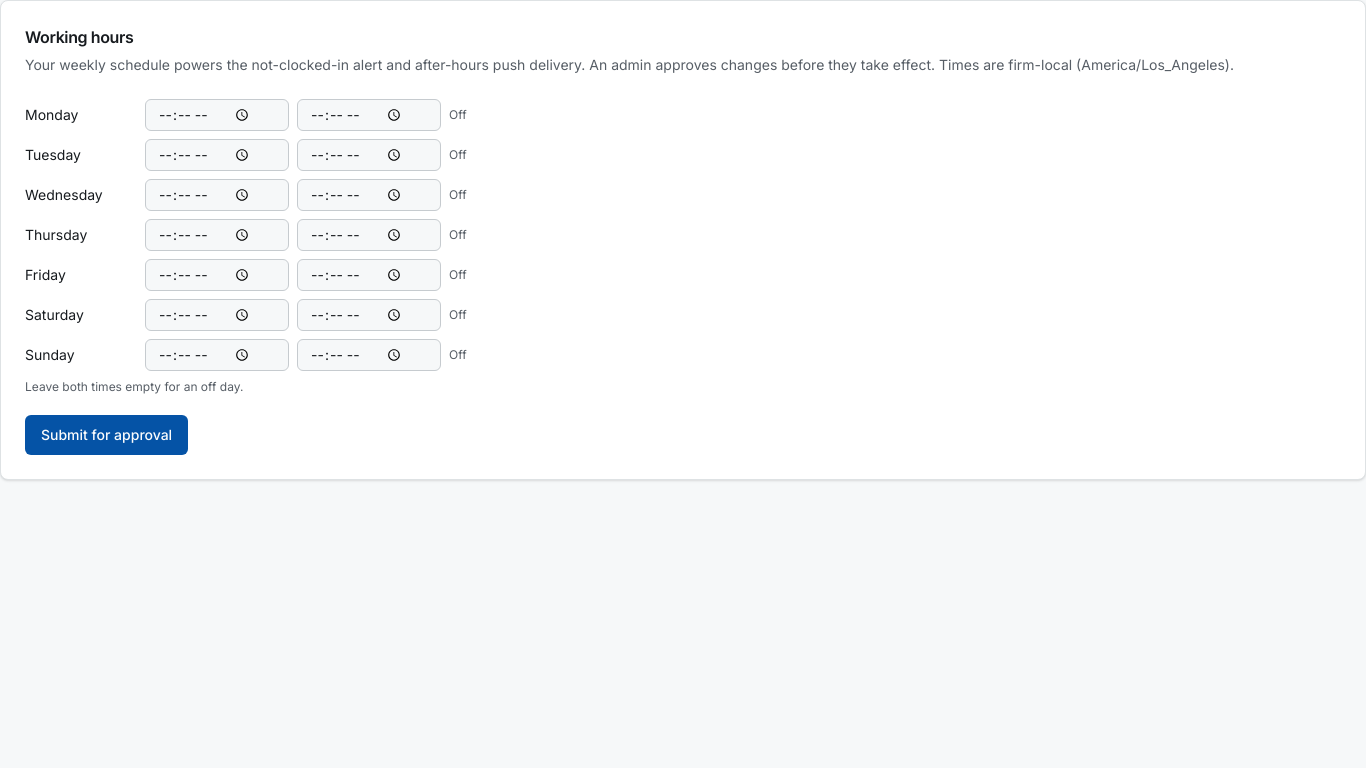
Test: WorkingHoursSettings › validates: half-filled days, end-before-start, and empty weeks never submit
The width and height of the screenshot is (1366, 768).
// Empty week.
Click the button with test id "working-hours-submit": [107, 435] box [25, 415, 188, 455]
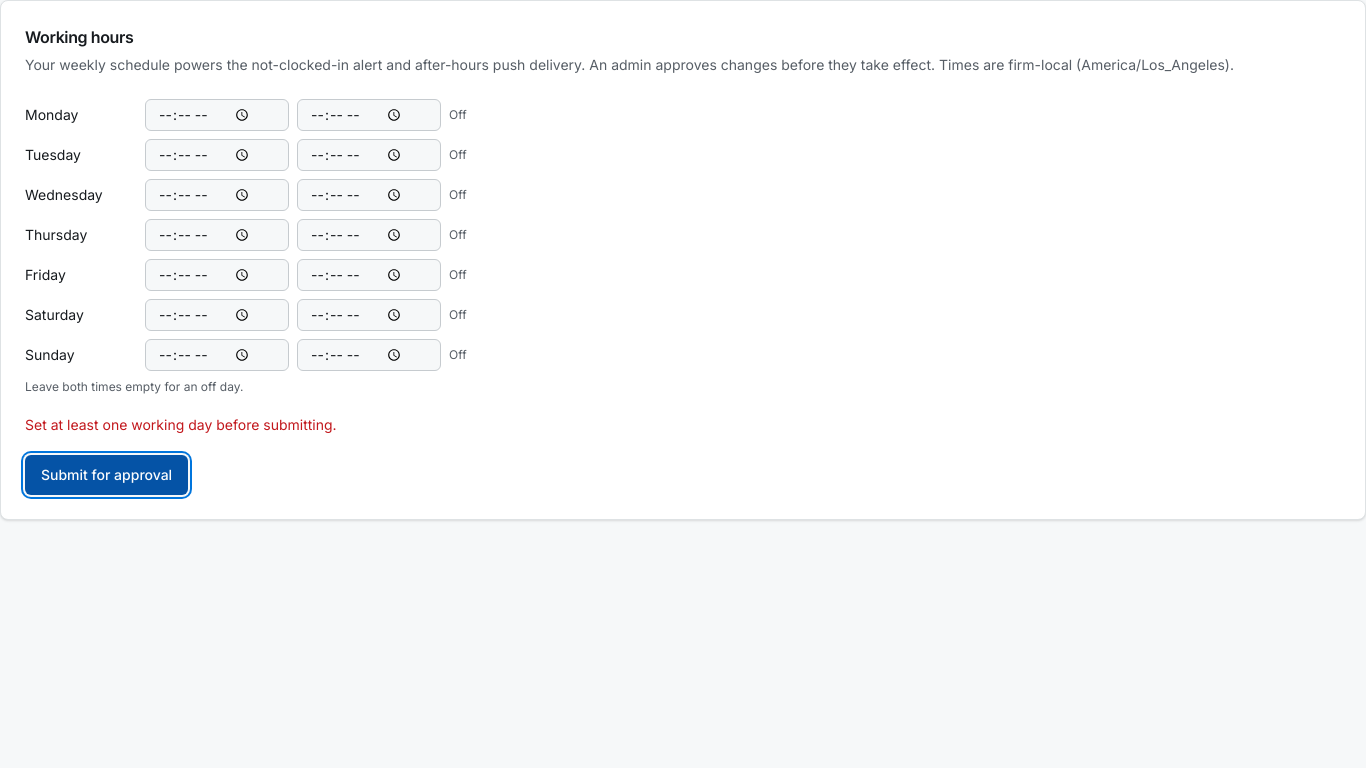
expect the message shows "at least one working day": met, box [25, 416, 337, 433]
// Half-filled day.
In the time field named "Wednesday start": [217, 195] box [145, 179, 289, 211], type "09:00"
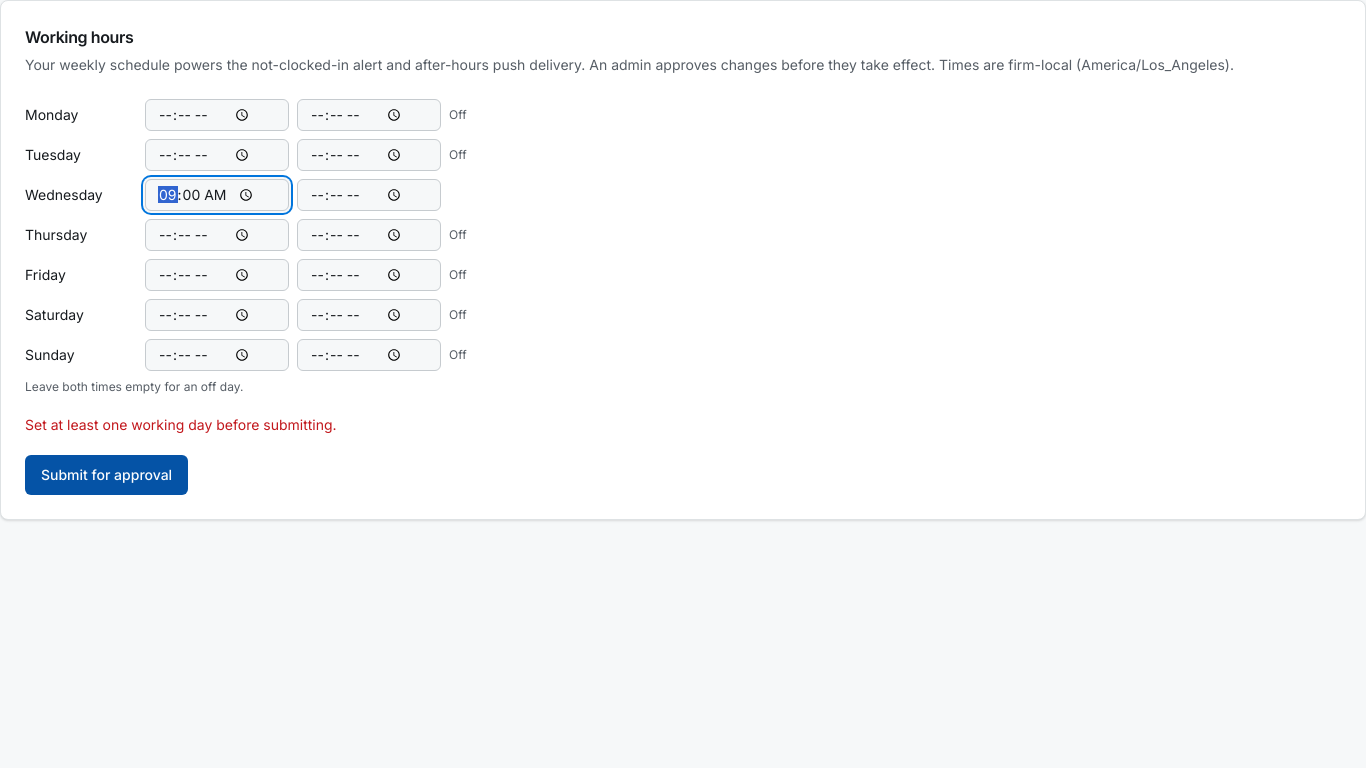
Click the button with test id "working-hours-submit": [107, 475] box [25, 455, 188, 495]
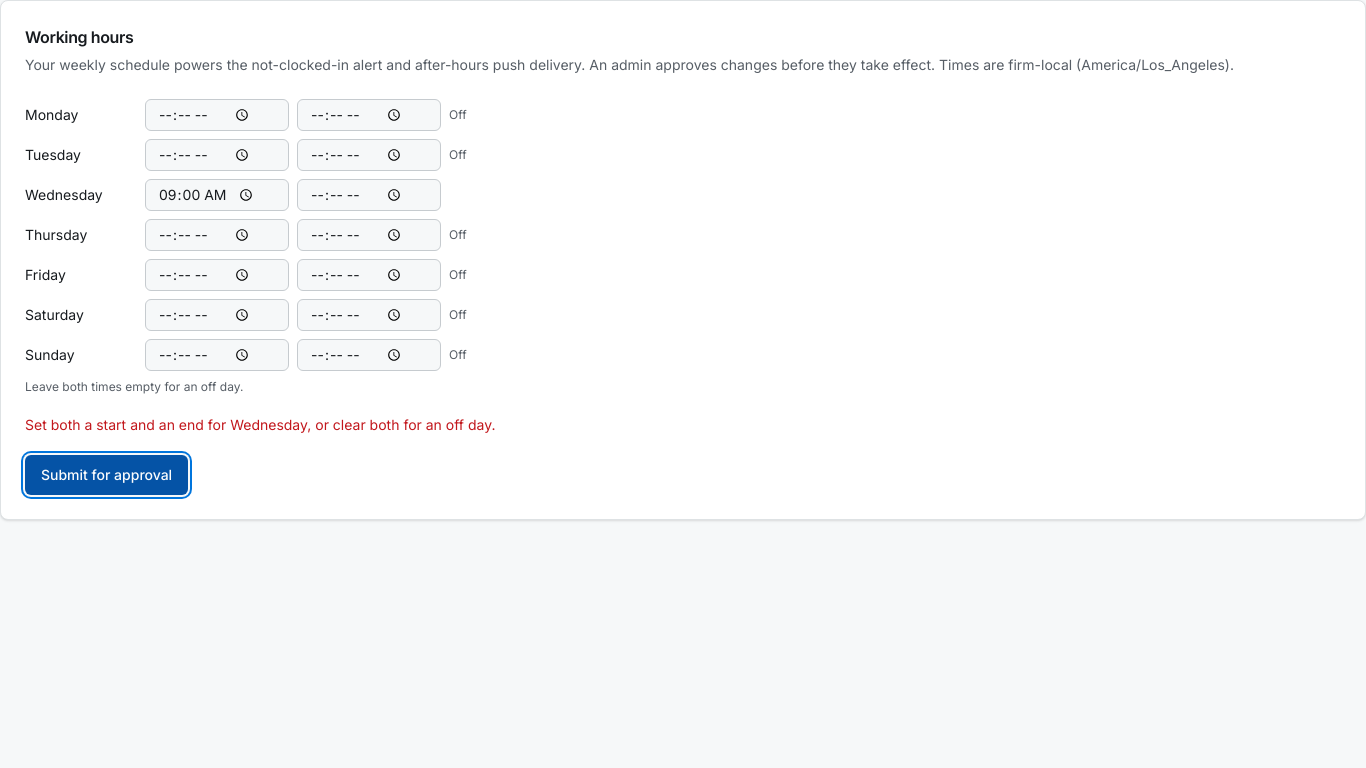
expect the message shows "both a start and an end": met, box [25, 416, 496, 433]
// End before start.
In the time field named "Wednesday end": [369, 195] box [297, 179, 441, 211], type "08:00"
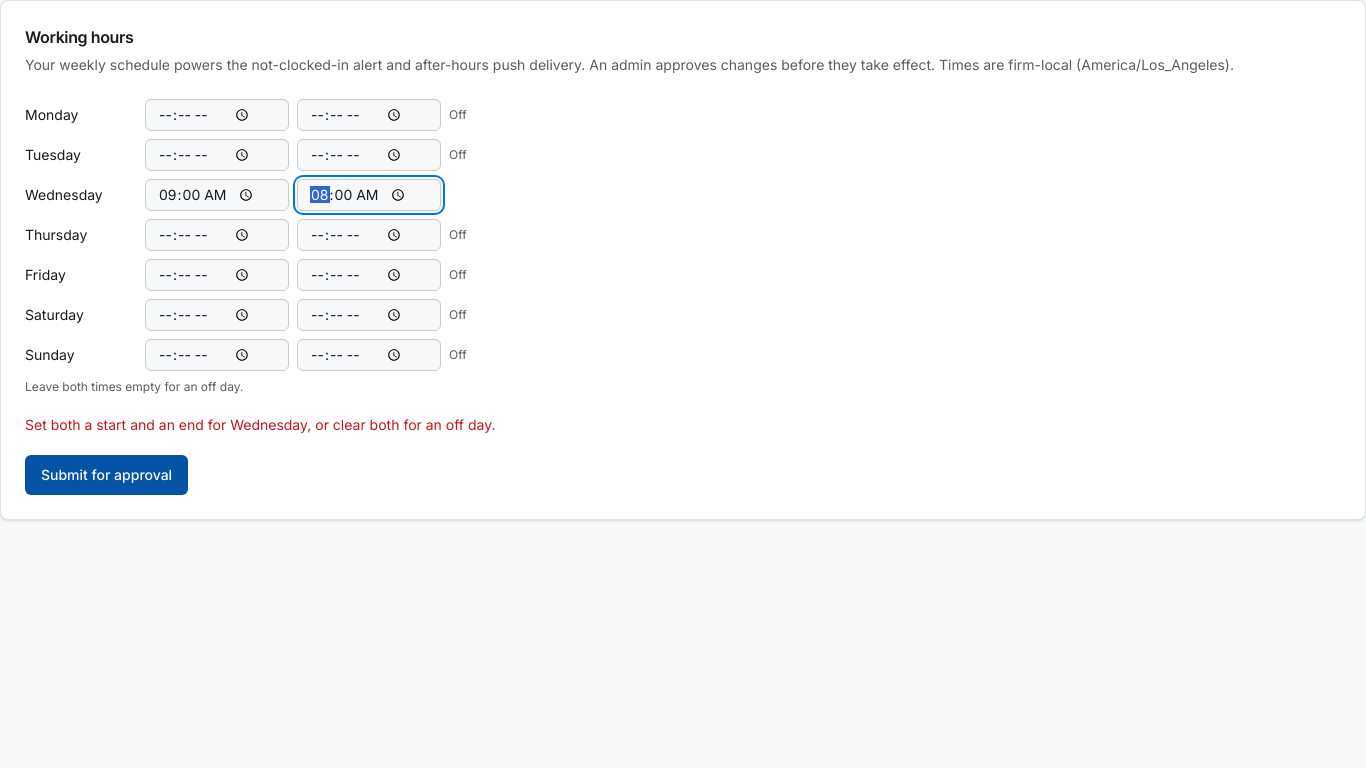
Click the button with test id "working-hours-submit": [107, 475] box [25, 455, 188, 495]
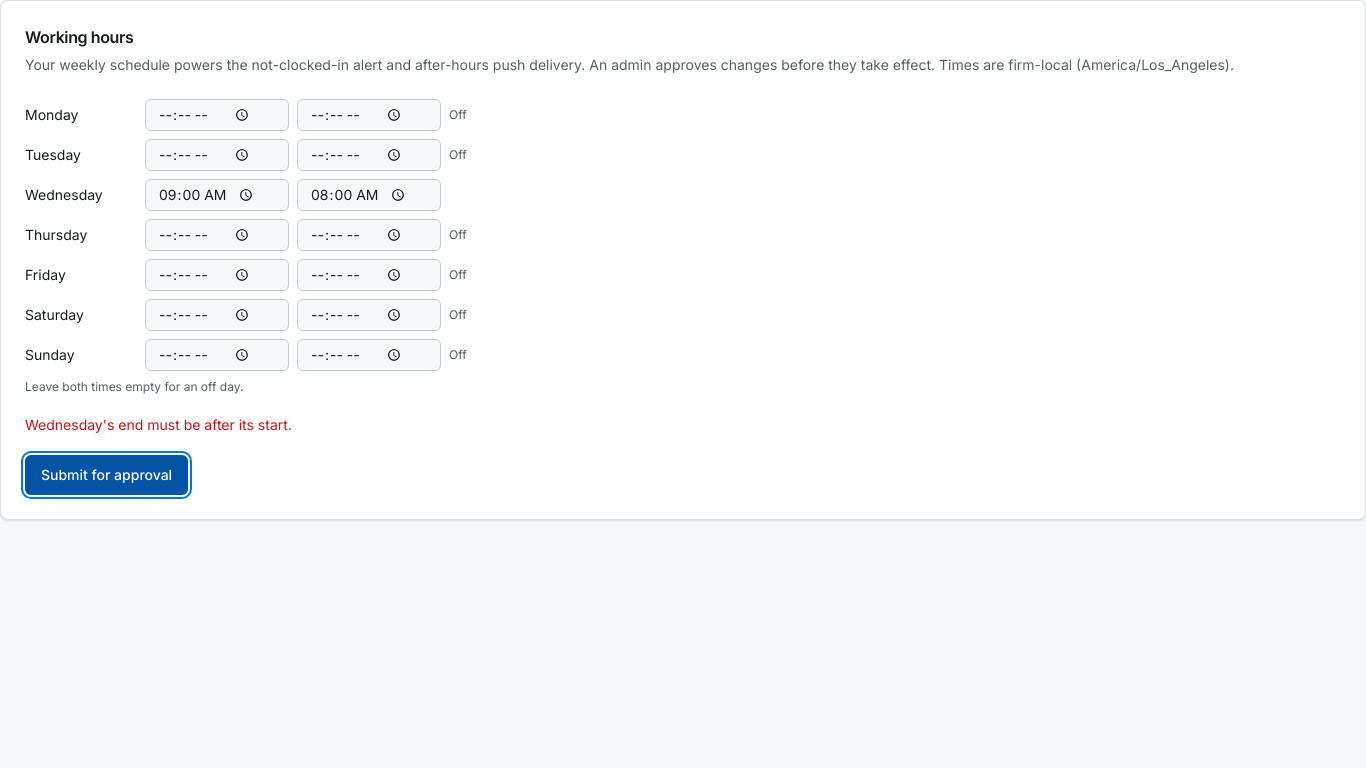
expect the message shows "end must be after its start": met, box [25, 416, 292, 433]
